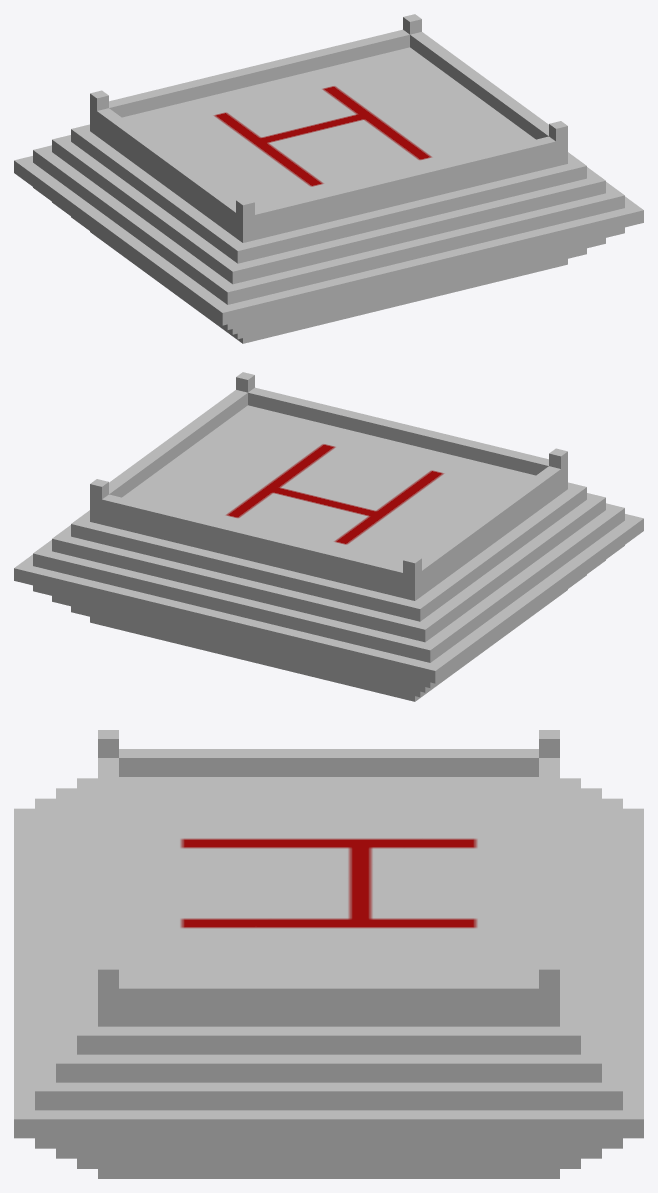
The model's file is twentythModelRoof.fbx.
The picture shows the model from 3 angles, top to bottom: view 1: azimuth 30°, elevation 25°; view 2: azimuth 150°, elevation 25°; view 3: azimuth 270°, elevation 25°; orthographic projection. The views are drawn at different scales.
Visible parts, largest first — view 1: Box; view 2: Box; view 3: Box.
Boxes of the visible parts, x1=… form: Box: x1=14, y1=14, x2=643, y2=343; Box: x1=14, y1=372, x2=643, y2=701; Box: x1=14, y1=730, x2=643, y2=1178.
Size of the model in its own units: 35 by 11 by 30.
1 material, 1 textured.
